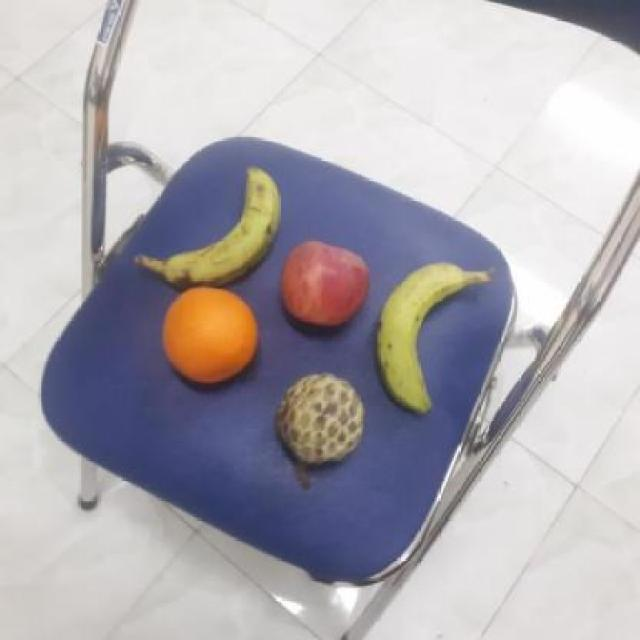apple: (280, 237, 378, 328)
banana: (370, 259, 485, 415), (158, 164, 294, 288)
oren: (160, 284, 262, 385)
sugar apple: (270, 370, 364, 465)
